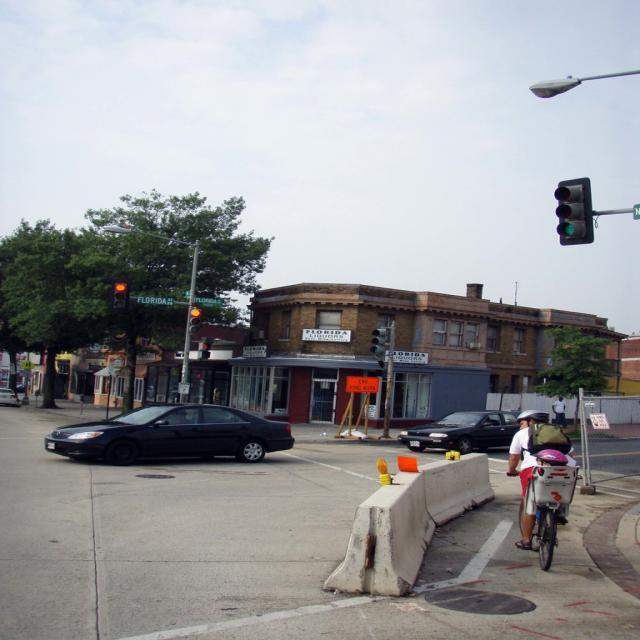off traffic light: (368, 326, 385, 357)
traffic light: (554, 176, 594, 246), (112, 282, 131, 311), (189, 308, 203, 334), (198, 342, 213, 361)
